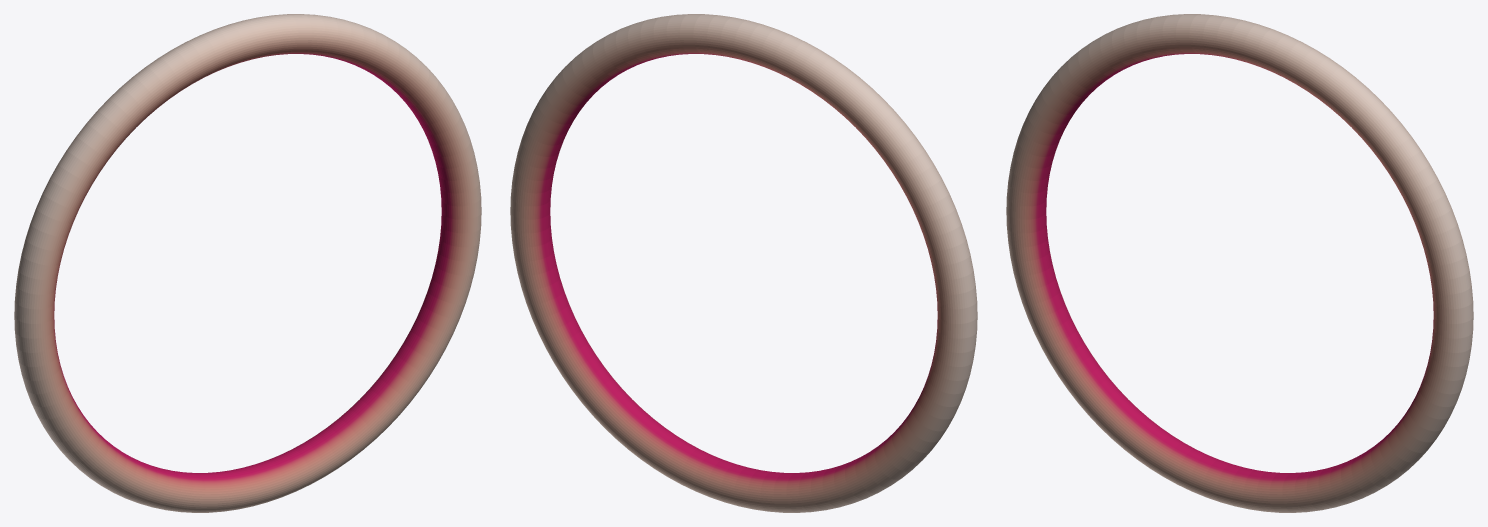
The picture shows the model from 3 angles, left to right: view 1: azimuth 30°, elevation 25°; view 2: azimuth 150°, elevation 25°; view 3: azimuth 330°, elevation 25°; orthographic projection.
Visible parts, largest first — view 1: world; view 2: world; view 3: world.
Part boxes in pixels (bbox=[...]): world: bbox=[14, 14, 481, 512]; world: bbox=[510, 14, 977, 512]; world: bbox=[1006, 14, 1473, 512].
Bounding box in the file's own units: 26.67 × 26.67 × 2.
